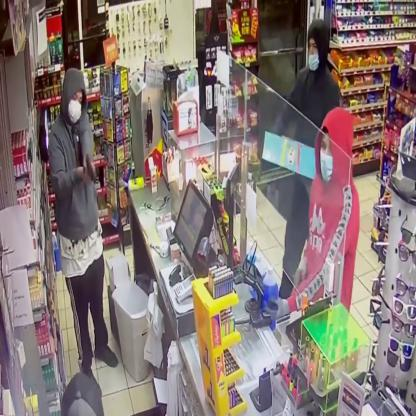Pistol: (84, 149, 98, 186)
